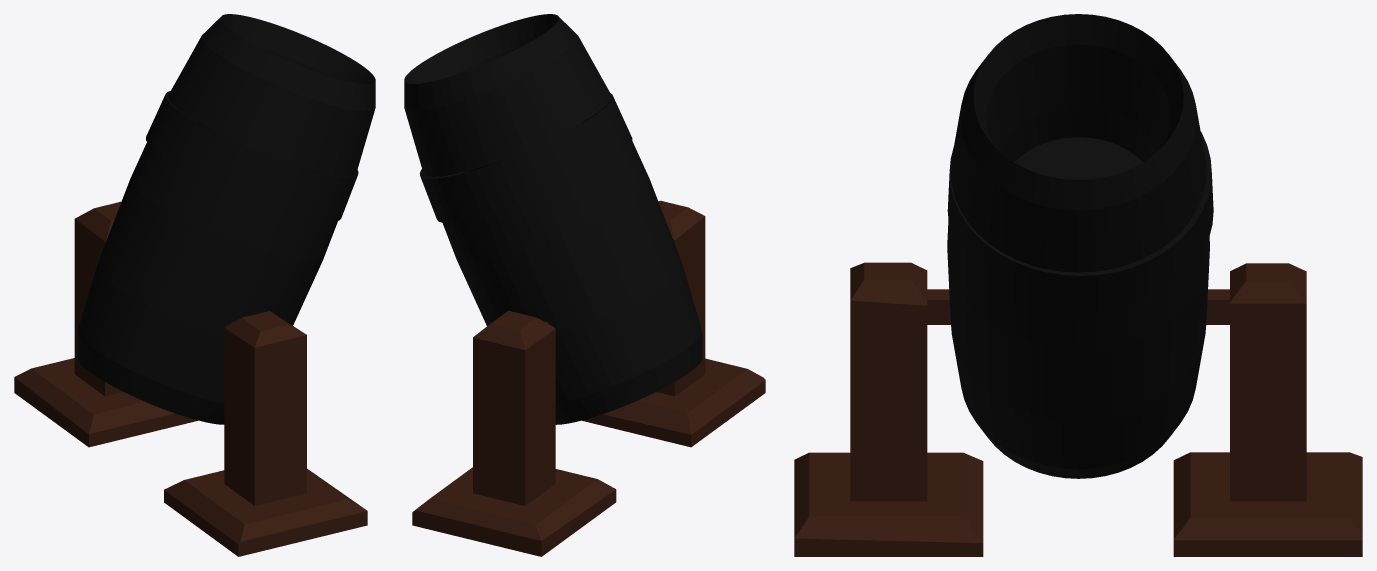
File: Canon.obj
The picture shows the model from 3 angles, left to right: view 1: azimuth 30°, elevation 25°; view 2: azimuth 150°, elevation 25°; view 3: azimuth 270°, elevation 25°; orthographic projection. The views are drawn at different scales.
Parts seen in each view (by area): view 1: cannon; view 2: cannon; view 3: cannon.
Boxes of the visible parts, x1,y1,x2,y2 form: cannon: [14, 14, 375, 556]; cannon: [404, 14, 765, 556]; cannon: [794, 14, 1362, 556].
Size of the model in its own units: 4.24 by 6.17 by 6.01.
